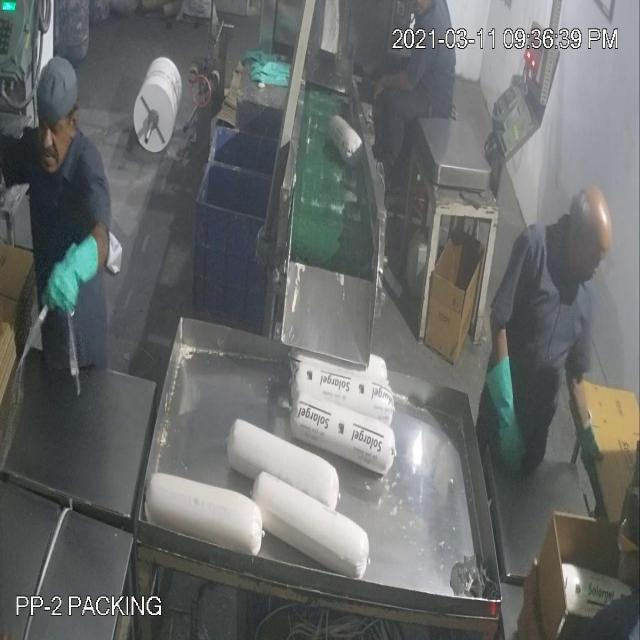No_Gloves: (29, 48, 586, 442)
